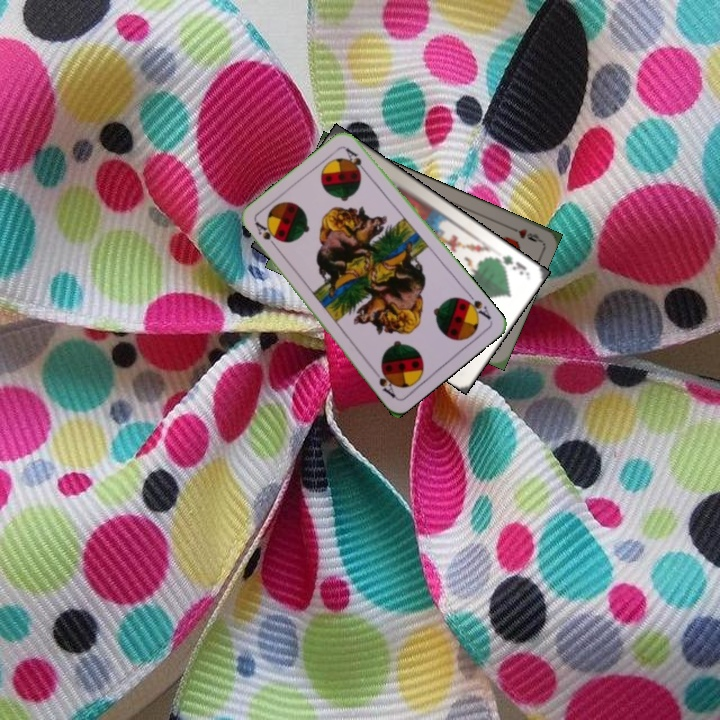GK: (491, 251, 530, 278)
H9: (504, 222, 542, 245)
SA: (458, 289, 494, 322), (251, 218, 281, 253)
